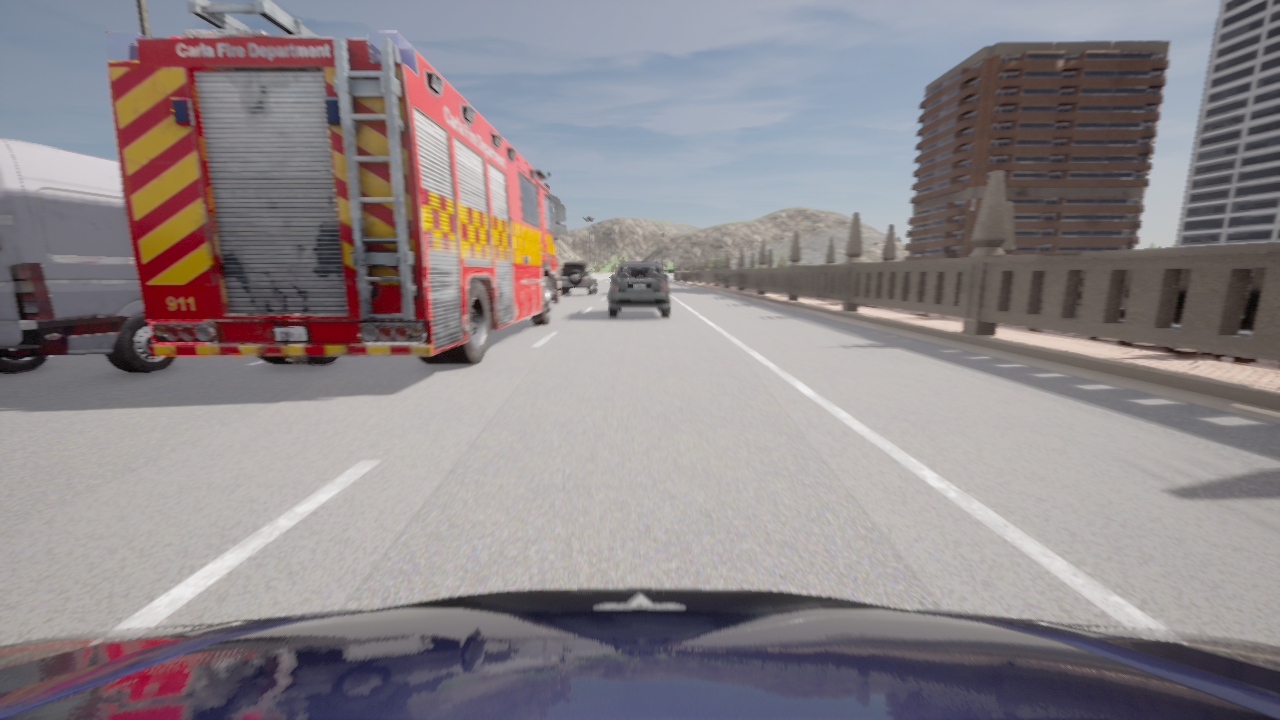cyclist: (0, 588, 1279, 719), (105, 0, 565, 364), (609, 262, 670, 317), (560, 261, 596, 295), (556, 268, 561, 278)
